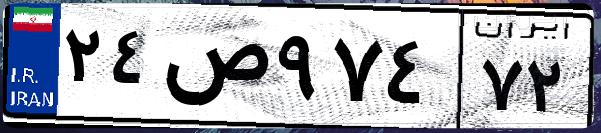2: (57, 26, 110, 100), (525, 38, 570, 115)
4: (385, 28, 445, 110), (110, 28, 158, 98)
7: (330, 28, 385, 110), (475, 38, 525, 113)
9: (270, 28, 330, 110)
ص: (158, 20, 270, 120)
